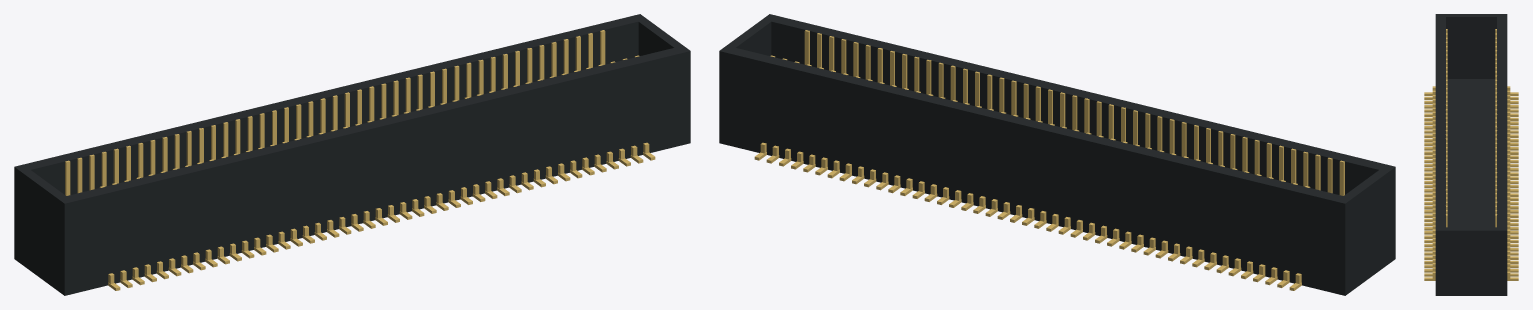
The model's file is df40-90ds-preview.glb.
3 renders of one model, left to right at view 1: azimuth 30°, elevation 25°; view 2: azimuth 150°, elevation 25°; view 3: azimuth 270°, elevation 25°, orthographic. The views are drawn at different scales.
Parts seen in each view (by area): view 1: df40-90ds-preview; view 2: df40-90ds-preview; view 3: df40-90ds-preview.
Boxes of the visible parts, x1,y1,x2,y2 form: df40-90ds-preview: (14, 14, 690, 295); df40-90ds-preview: (719, 14, 1395, 295); df40-90ds-preview: (1424, 14, 1518, 295).
Bounding box in the file's own units: 20.6 × 2.9 × 3.78.
